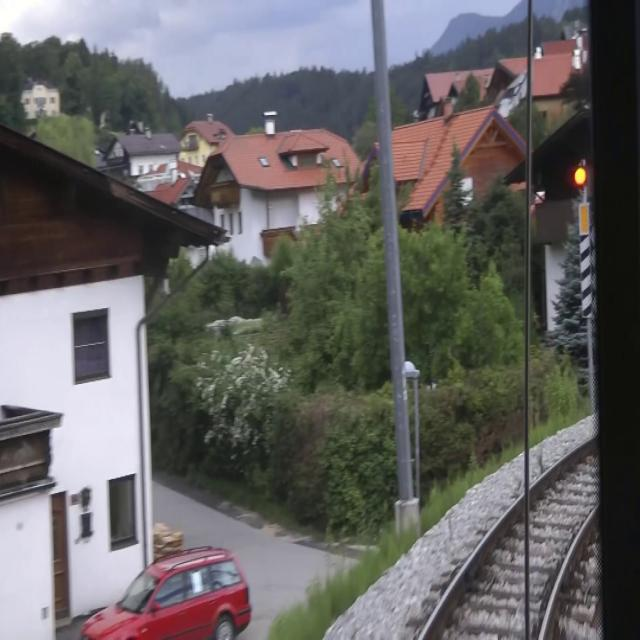rail-track: (425, 440, 598, 639)
